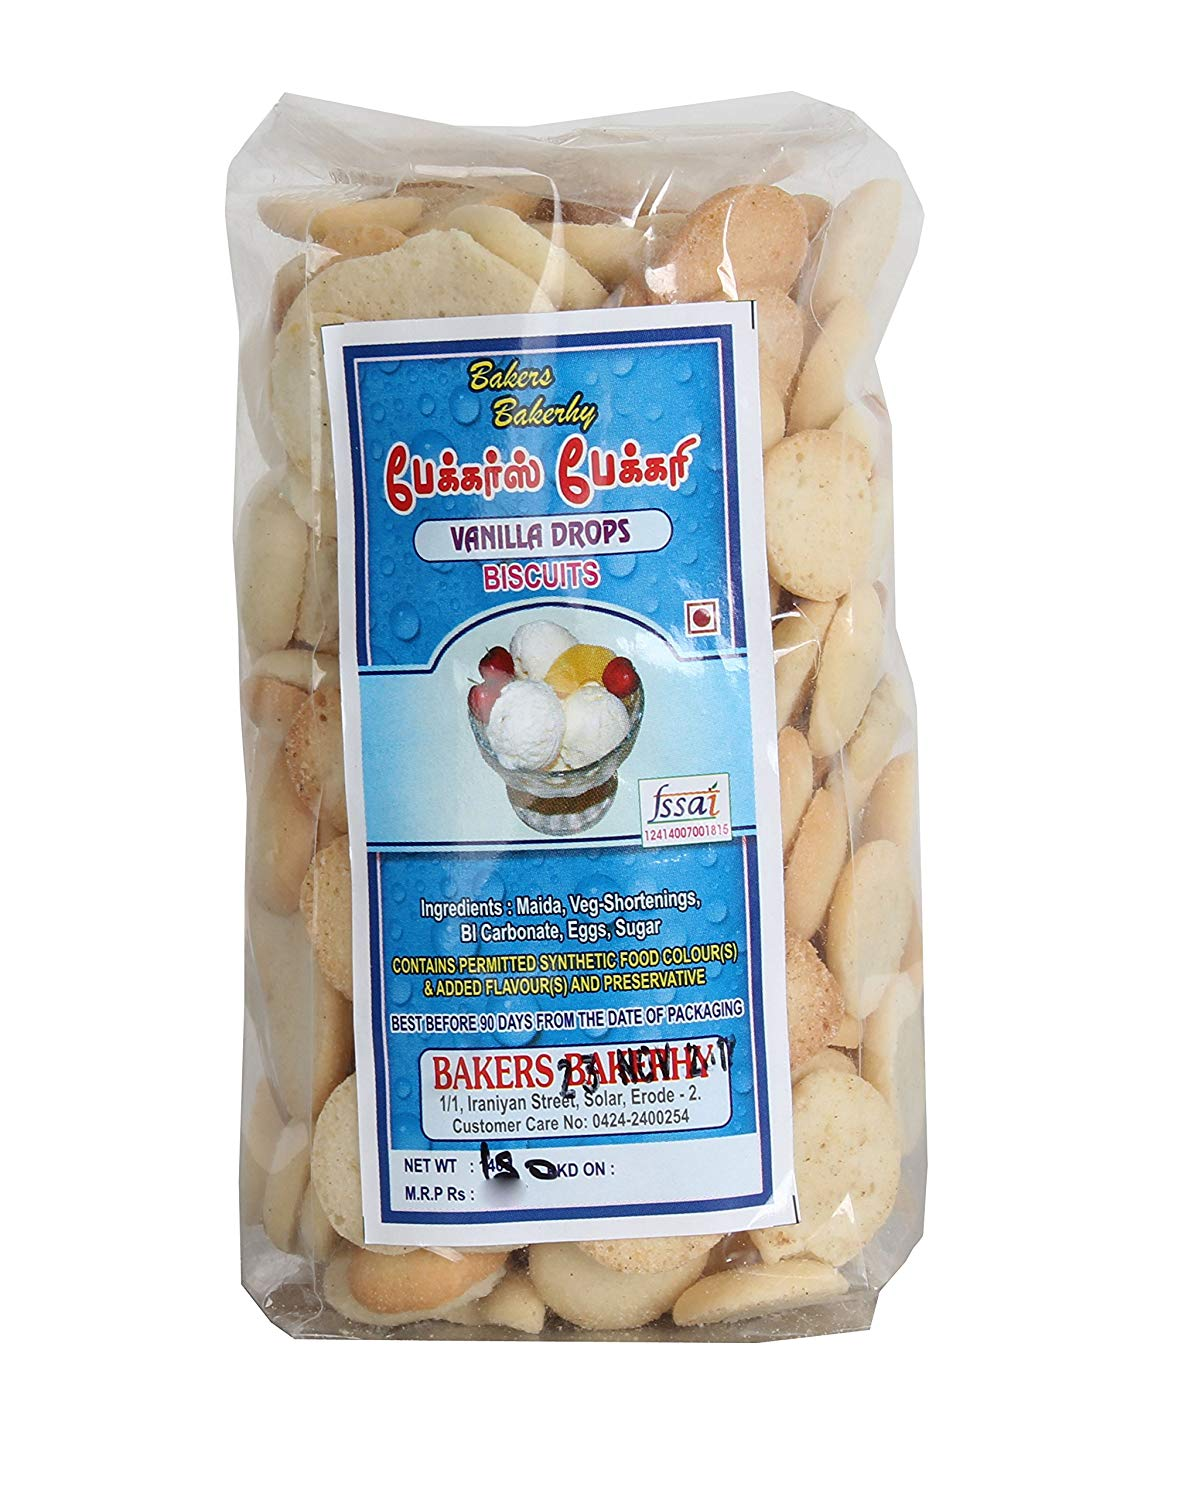nonveg_red: (686, 600, 719, 636)
